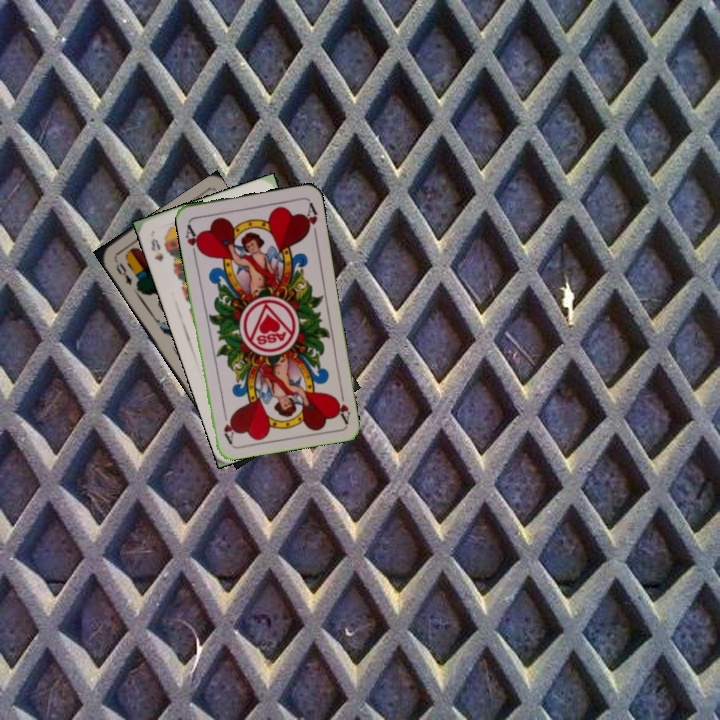EO: (112, 258, 135, 288)
HA: (181, 219, 204, 259), (331, 385, 353, 425)
S8: (147, 234, 166, 264)
